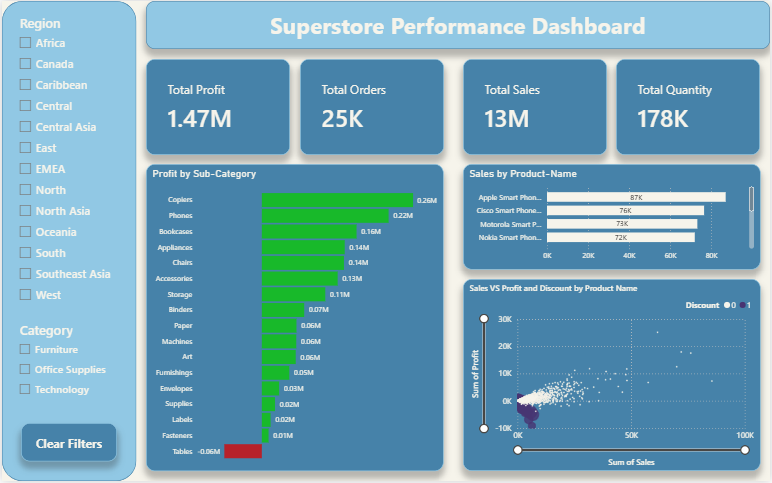

Layout of this report page (visuals, bound fields, positions):
{"tool":"powerbi","page":{"name":"Duplicate of Page 1","canvas":[1280,800],"ordinal":2},"visuals":[{"type":"textbox","box":[240,0,1040,80],"z":0},{"type":"cardVisual","title":"fefeg","fields":{"Data":["Measure.Total Sales"]},"box":[768,96,240,160],"z":1000},{"type":"cardVisual","title":"fefeg","fields":{"Data":["Measure.Total Quantity"]},"box":[1024,96,240,160],"z":2000},{"type":"cardVisual","title":"fefeg","fields":{"Data":["Measure.Total Orders"]},"box":[496,96,240,160],"z":3000},{"type":"shape","box":[0,0,224,800],"z":4000},{"type":"cardVisual","title":"fefeg","fields":{"Data":["Measure.Total Profit"]},"box":[240,96,240,160],"z":5000},{"type":"slicer","fields":{"Values":["superstore.Region"]},"box":[16,16,224,512],"z":6000},{"type":"slicer","fields":{"Values":["superstore.Category"]},"box":[16,528,224,256],"z":7000},{"type":"clusteredBarChart","title":"Profit by Sub-Category","fields":{"Category":["superstore.Sub-Category"],"Y":["Sum(superstore.Profit)"]},"box":[240,272,496,512],"z":8000},{"type":"clusteredBarChart","title":"Sales by Product-Name","fields":{"Category":["superstore.Product-Name"],"Y":["Sum(superstore.Sales)"]},"box":[768,272,496,176],"z":9000},{"type":"scatterChart","title":"Sales VS Profit and Discount by Product Name","fields":{"X":["Sum(superstore.Sales)"],"Y":["Sum(superstore.Profit)"],"Category":["superstore.Product-Name"],"Size":["Sum(superstore.Discount)"],"Series":["superstore.Discount"]},"box":[768,464,496,320],"z":10000},{"type":"actionButton","box":[32,704,160,64],"z":11000}]}

Visuals, with their boxes in screenshot pixels (x1, y1, x2, y2), scaled from the page's 1280x800 canvas onto the 772x483 screenshot:
textbox: <region>145, 0, 771, 48</region>
"fefeg" cardVisual: <region>463, 58, 608, 155</region>
"fefeg" cardVisual: <region>618, 58, 762, 155</region>
"fefeg" cardVisual: <region>299, 58, 444, 155</region>
shape: <region>0, 0, 135, 482</region>
"fefeg" cardVisual: <region>145, 58, 290, 155</region>
slicer - superstore.Region: <region>10, 10, 145, 319</region>
slicer - superstore.Category: <region>10, 319, 145, 473</region>
"Profit by Sub-Category" clusteredBarChart: <region>145, 164, 444, 473</region>
"Sales by Product-Name" clusteredBarChart: <region>463, 164, 762, 270</region>
"Sales VS Profit and Discount by Product Name" scatterChart: <region>463, 280, 762, 473</region>
actionButton: <region>19, 425, 116, 464</region>
